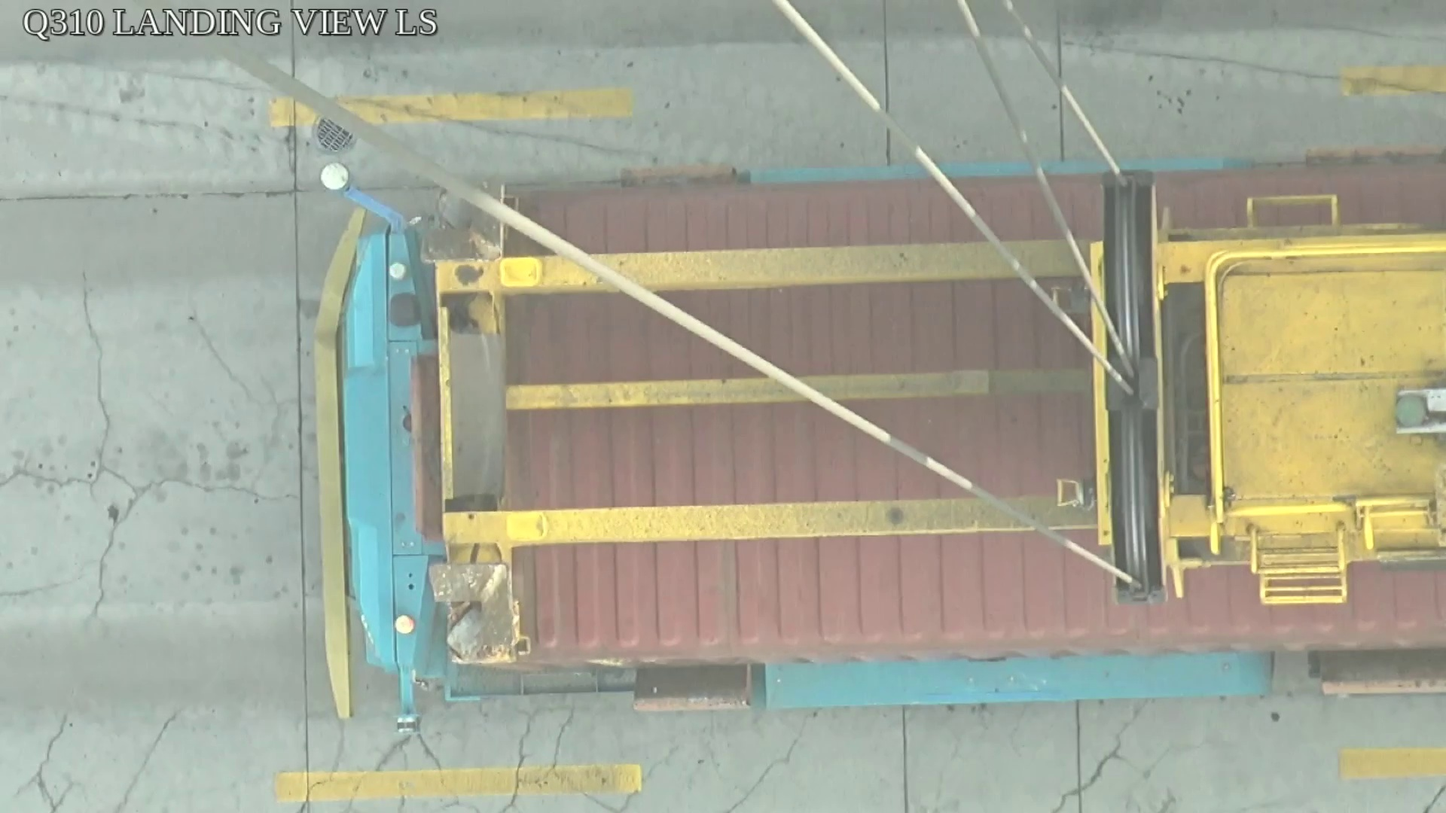aa: (1094, 170, 1179, 609)
